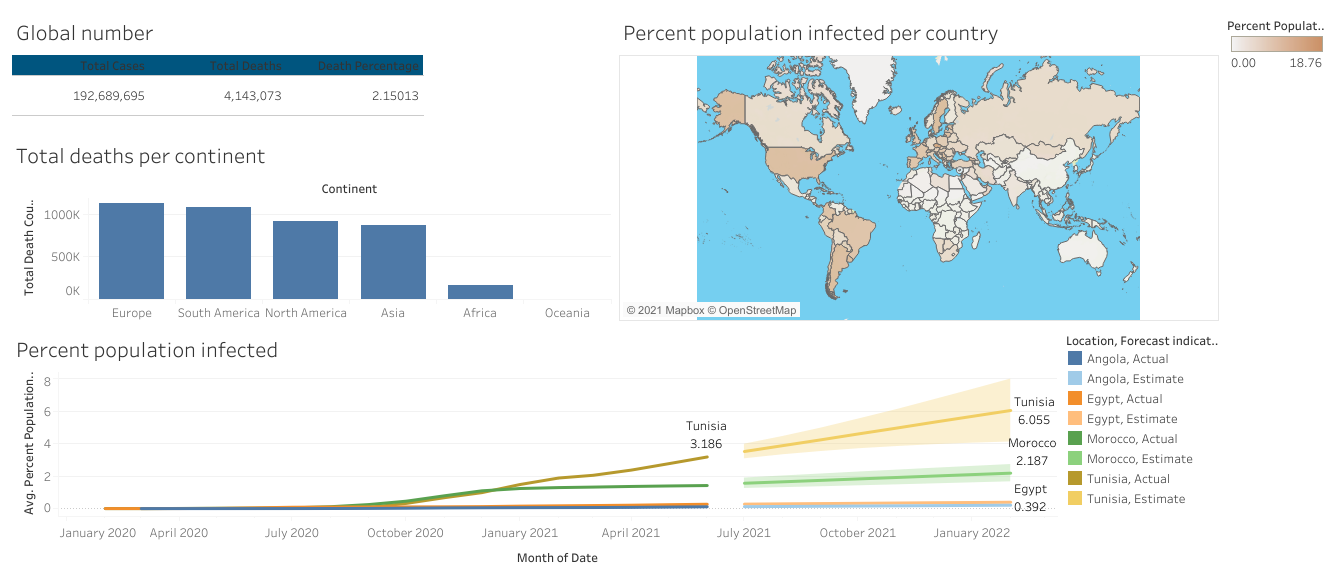

The dashboard page shown, as its layout file describes it:
{"tool":"tableau","page":{"name":"Dashboard 1","canvas":[1000,1000],"units":"permille","ordinal":0},"visuals":[{"type":"worksheet","title":"Sheet 1","mark":"Automatic","box":[7.1,13.8,444.9,209.3]},{"type":"worksheet","title":"Sheet 3","mark":"Automatic","box":[452,13.8,445,541.5]},{"type":"legend","title":"Sheet 3","param":"[federated.1cxqw7k10o072e0zmls4r1d7v7qz].[sum:PercentPopulationInfected:qk]","box":[897,13.8,95.9,112.5]},{"type":"worksheet","title":"Sheet 2","mark":"Automatic","rows":["TotalDeathCount"],"cols":["location"],"box":[7.1,223.2,444.9,332.2]},{"type":"worksheet","title":"Sheet 4","mark":"Automatic","rows":["PercentPopulationInfected"],"cols":["date"],"box":[7.1,555.4,771.3,430.8]},{"type":"legend","title":"Sheet 4","param":"[federated.04vo9z41ccb8wf11rydt609hj6sy].[none:Location:nk]\n[federated.04vo9z41c","box":[778.4,555.4,118.6,430.8]}]}

Visuals, with their boxes on the dashboard's canvas, which has no fixed pixel size, in thousandths of its width and height (x1, y1, x2, y2). These are canvas units, not pixel positions in the 1338x584 screenshot, which may show the page scaled, cropped or inside an application window:
"Sheet 1" worksheet: [7, 14, 452, 223]
"Sheet 3" worksheet: [452, 14, 897, 555]
"Sheet 3" legend: [897, 14, 993, 126]
"Sheet 2" worksheet: [7, 223, 452, 555]
"Sheet 4" worksheet: [7, 555, 778, 986]
"Sheet 4" legend: [778, 555, 897, 986]
